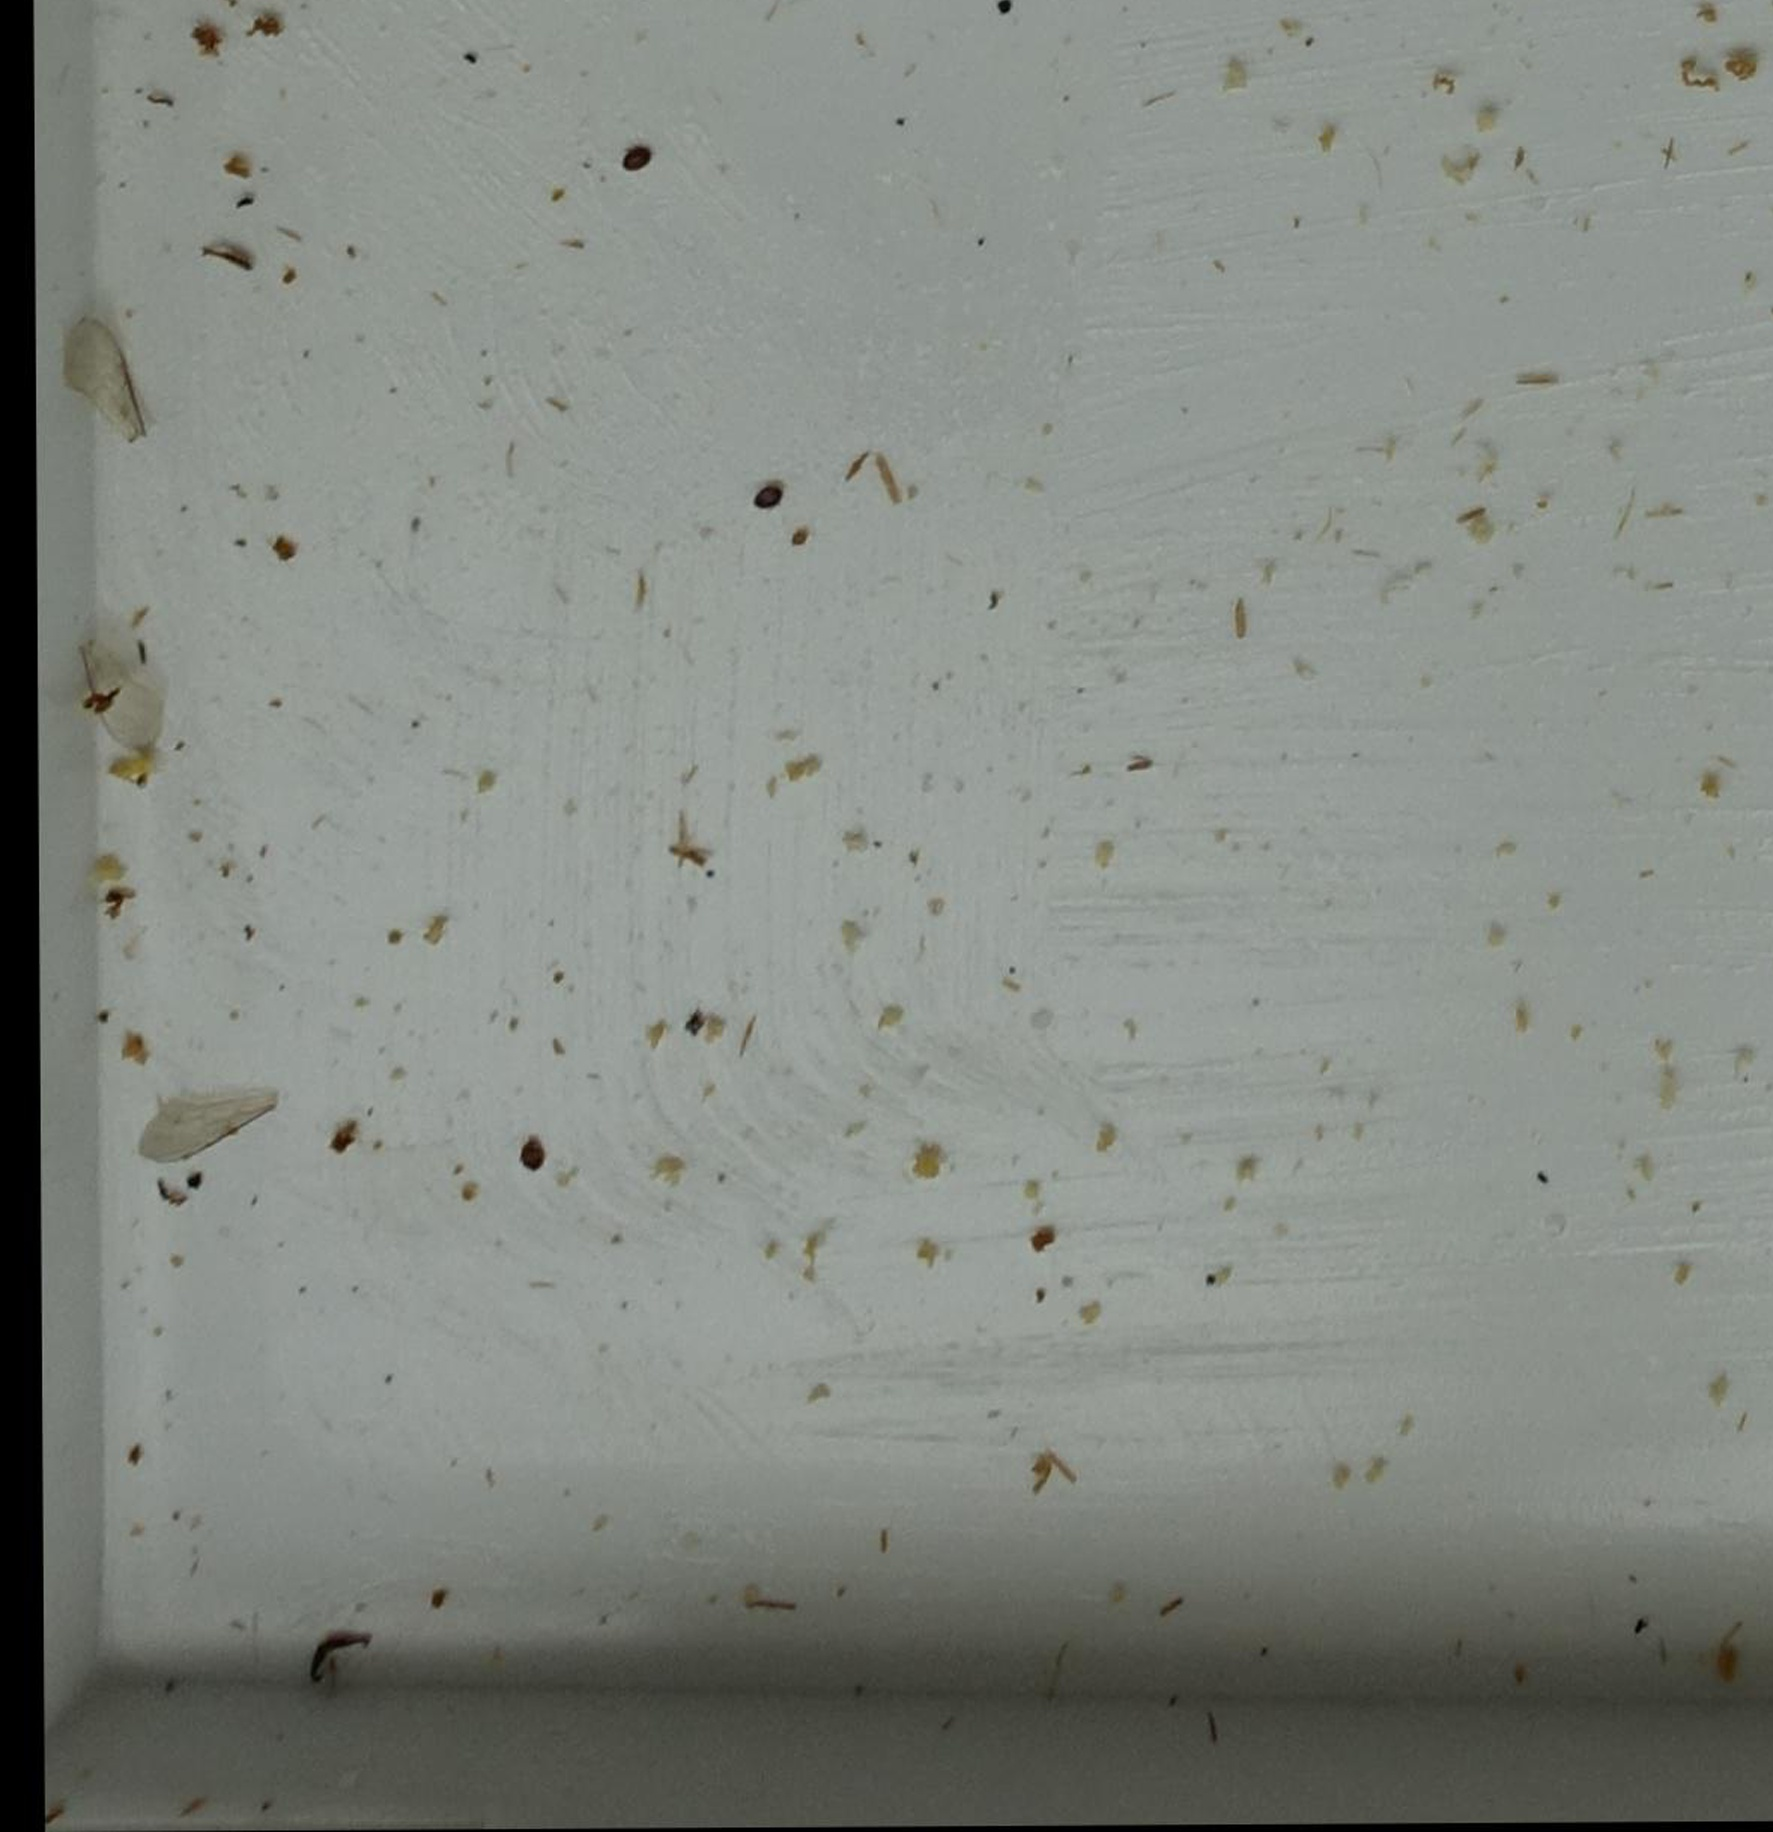Varroa: (620, 149, 654, 186), (752, 479, 783, 510), (520, 1142, 546, 1170)
